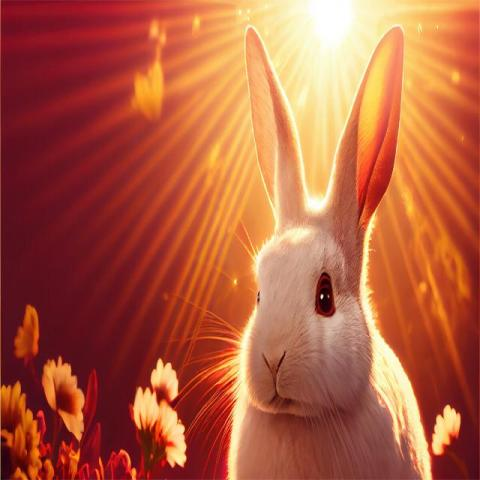small_animal: (222, 21, 434, 478)
